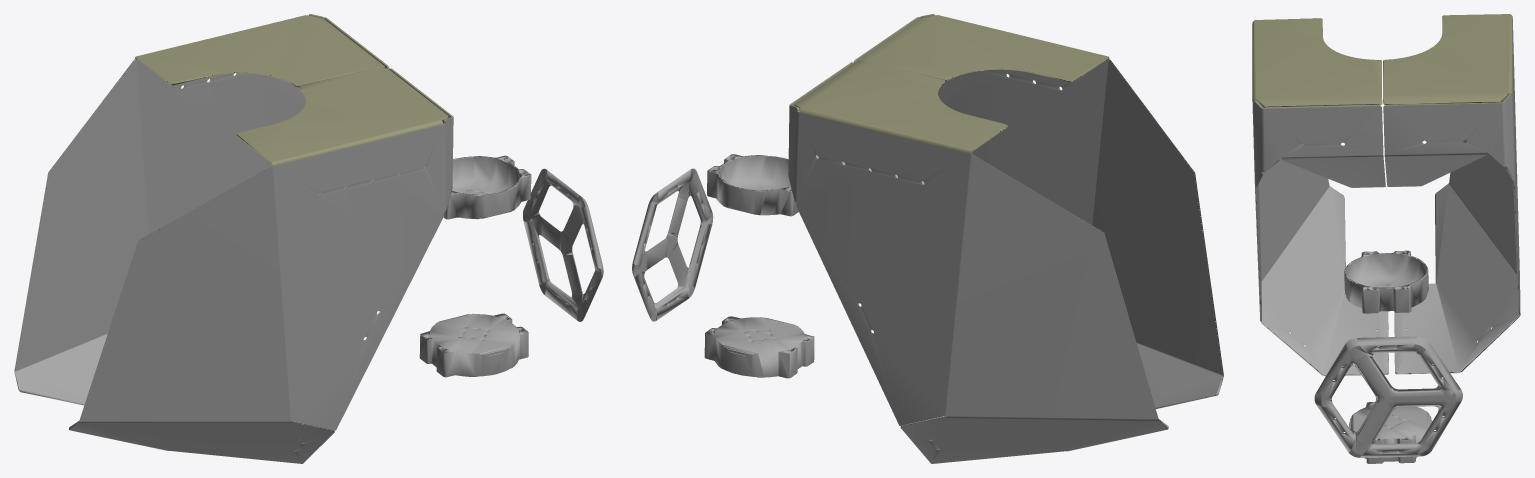
The picture shows the model from 3 angles, left to right: view 1: azimuth 30°, elevation 25°; view 2: azimuth 150°, elevation 25°; view 3: azimuth 270°, elevation 25°; orthographic projection. The views are drawn at different scales.
Visible parts, largest first — view 1: node; view 2: node; view 3: node.
Part boxes in pixels (box(x1,y1,x2,y2)): node: box(14, 14, 603, 463); node: box(632, 14, 1223, 463); node: box(1252, 14, 1520, 463).
Size of the model in its own units: 0.5819 by 0.2738 by 0.374.
